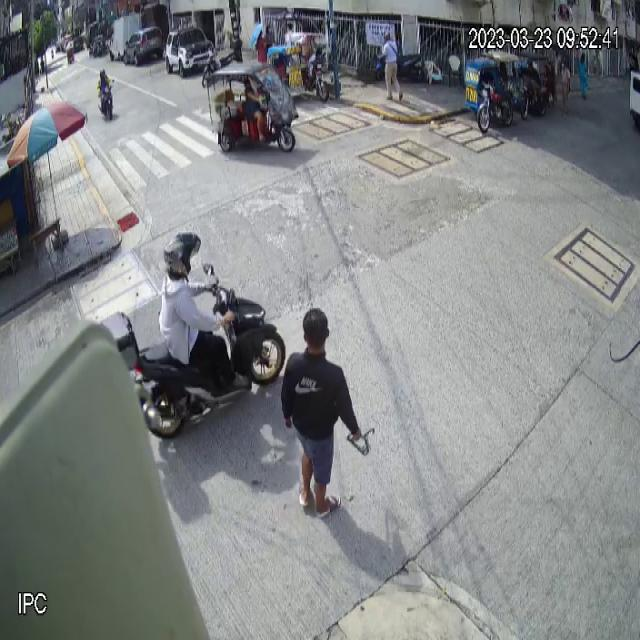Motorcycle: (102, 262, 287, 438)
Tricycle: (465, 49, 520, 135)
